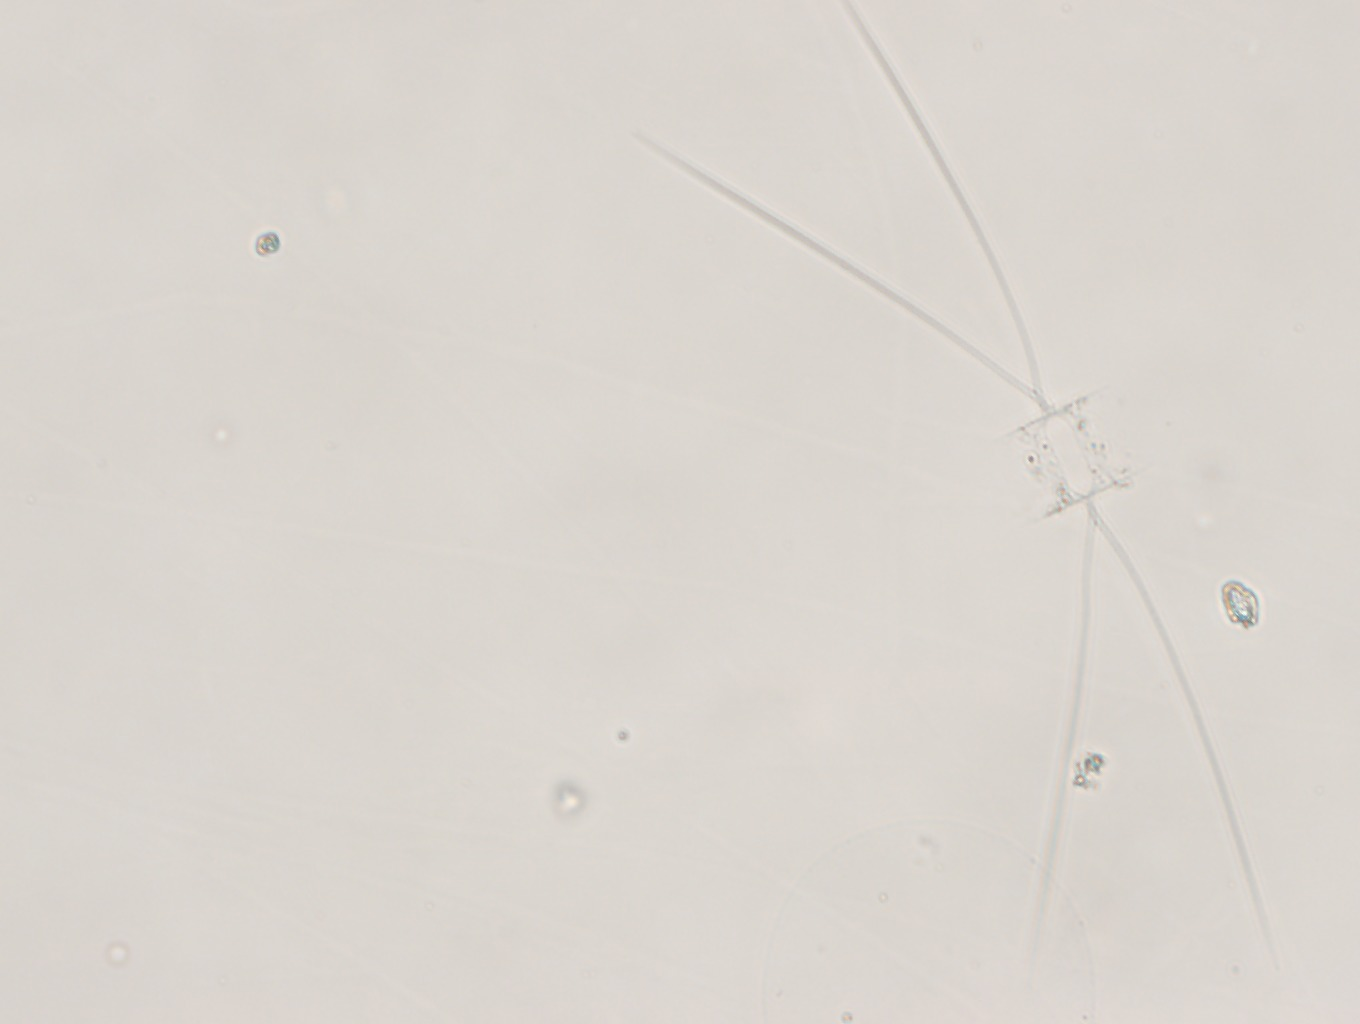chaetoceros: (639, 1, 1290, 998)
